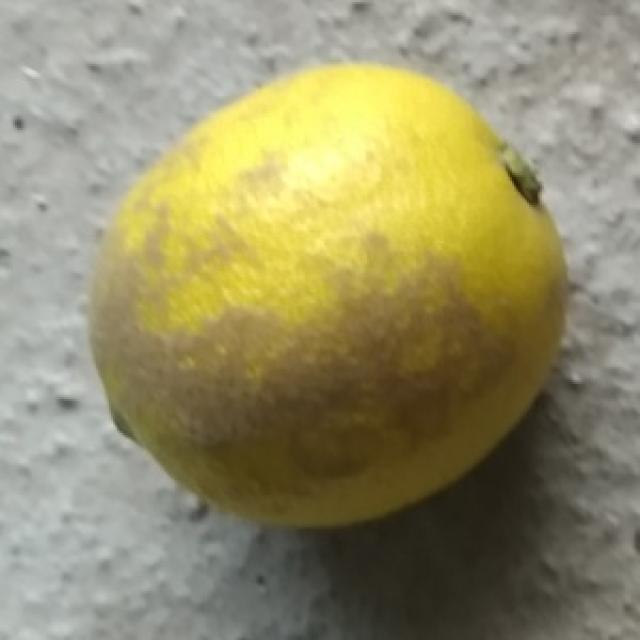overripe: (87, 57, 576, 535)
